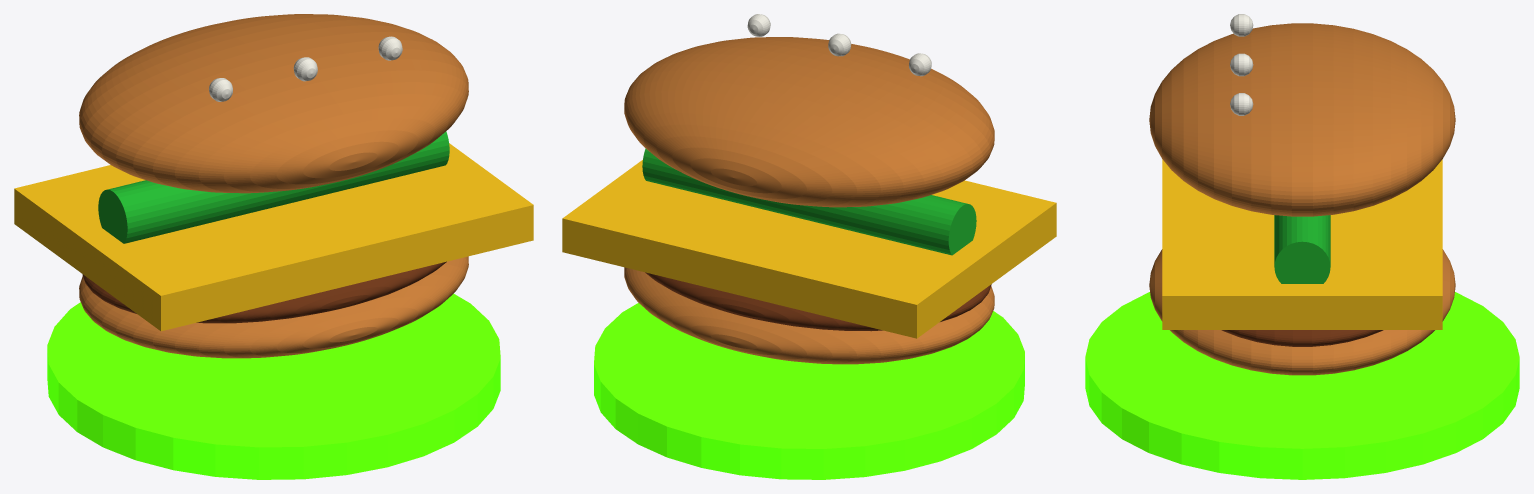
Rendered from food_burger.dae.
3 views of the same model, side by side, from view 1: azimuth 30°, elevation 25°; view 2: azimuth 150°, elevation 25°; view 3: azimuth 270°, elevation 25° (orthographic). The views are drawn at different scales.
Parts seen in each view (by area): view 1: 01_01_Popular_Food_Burger_ROOT_base, 01_01_Popular_Food_Burger_part_01, 01_01_Popular_Food_Burger_part_04, 01_01_Popular_Food_Burger_part_02, 01_01_Popular_Food_Burger_part_03, 01_01_Popular_Food_Burger_part_05; view 2: 01_01_Popular_Food_Burger_ROOT_base, 01_01_Popular_Food_Burger_part_01, 01_01_Popular_Food_Burger_part_04, 01_01_Popular_Food_Burger_part_02, 01_01_Popular_Food_Burger_part_03, 01_01_Popular_Food_Burger_part_05; view 3: 01_01_Popular_Food_Burger_ROOT_base, 01_01_Popular_Food_Burger_part_01, 01_01_Popular_Food_Burger_part_04, 01_01_Popular_Food_Burger_part_02, 01_01_Popular_Food_Burger_part_03, 01_01_Popular_Food_Burger_part_05.
Part boxes in pixels (bbox=[...]): 01_01_Popular_Food_Burger_ROOT_base: bbox=[47, 293, 500, 479]; 01_01_Popular_Food_Burger_part_01: bbox=[79, 14, 468, 193]; 01_01_Popular_Food_Burger_part_04: bbox=[14, 143, 533, 331]; 01_01_Popular_Food_Burger_part_02: bbox=[79, 256, 468, 358]; 01_01_Popular_Food_Burger_part_03: bbox=[98, 131, 449, 243]; 01_01_Popular_Food_Burger_part_05: bbox=[82, 261, 446, 323]; 01_01_Popular_Food_Burger_ROOT_base: bbox=[594, 303, 1024, 479]; 01_01_Popular_Food_Burger_part_01: bbox=[624, 37, 994, 207]; 01_01_Popular_Food_Burger_part_04: bbox=[562, 160, 1056, 338]; 01_01_Popular_Food_Burger_part_02: bbox=[624, 267, 994, 364]; 01_01_Popular_Food_Burger_part_03: bbox=[642, 148, 976, 255]; 01_01_Popular_Food_Burger_part_05: bbox=[645, 272, 991, 331]; 01_01_Popular_Food_Burger_ROOT_base: bbox=[1085, 292, 1519, 479]; 01_01_Popular_Food_Burger_part_01: bbox=[1149, 23, 1455, 216]; 01_01_Popular_Food_Burger_part_04: bbox=[1162, 159, 1442, 329]; 01_01_Popular_Food_Burger_part_02: bbox=[1149, 249, 1455, 375]; 01_01_Popular_Food_Burger_part_03: bbox=[1274, 215, 1330, 283]; 01_01_Popular_Food_Burger_part_05: bbox=[1221, 330, 1383, 346].
Size of the model in its own units: 0.76 by 0.644 by 0.76.
